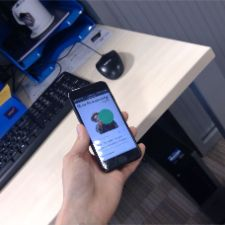focus: (96, 108, 117, 126)
